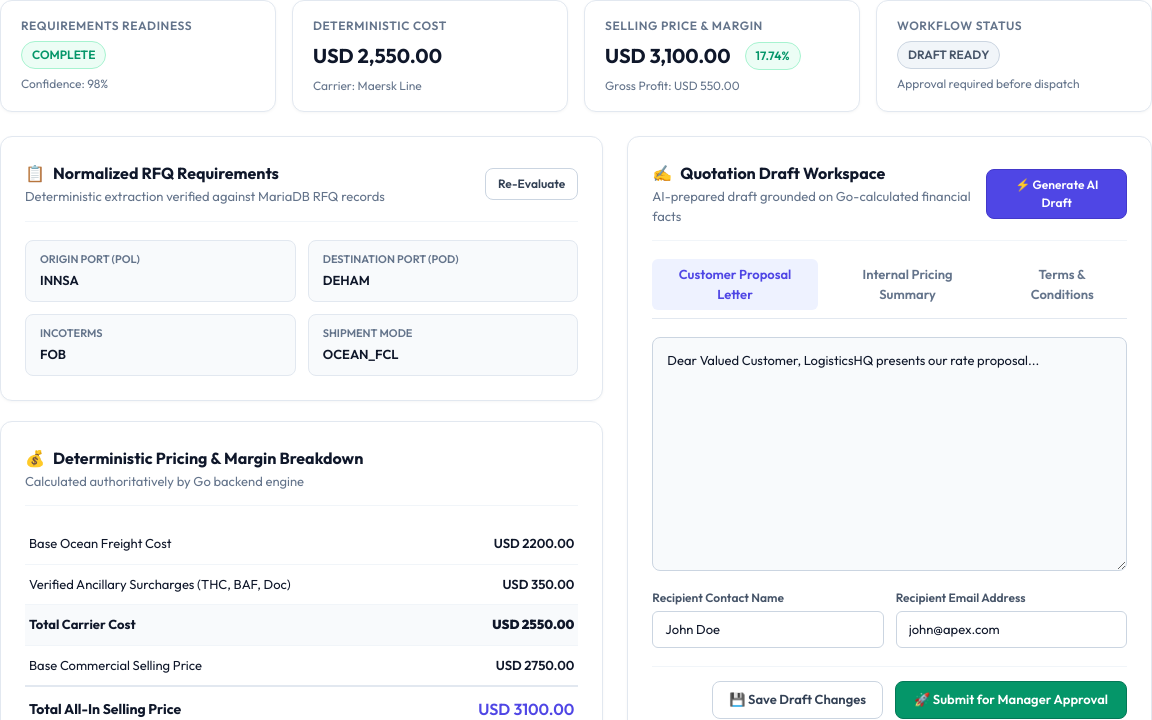
Test: RFQIntelligentPricingWorkflowSection Component › allows switching between draft workspace tabs
The width and height of the screenshot is (1152, 720).
Expected: the text box with test id "customer-wording-input" is shown, top-left (652, 337), bottom-right (1127, 571)
Note: Switch to Internal Summary tab
Click the button "Internal Pricing Summary": (908, 284) top-left (826, 259), bottom-right (989, 310)
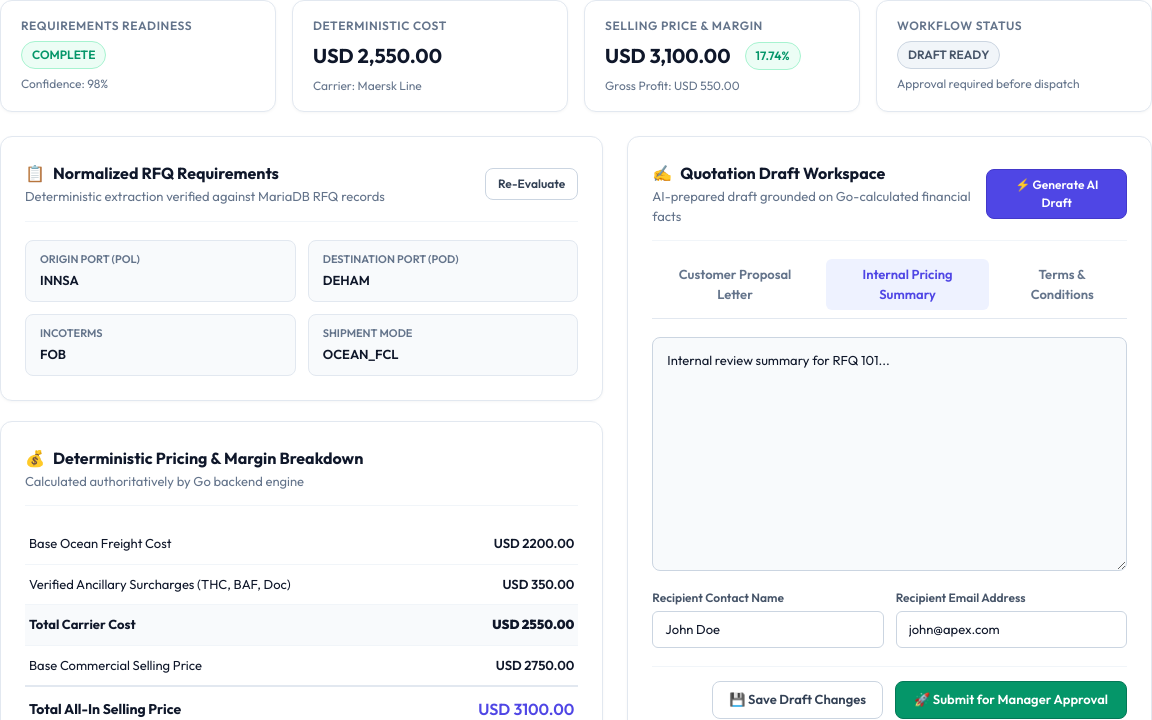
Expected: the text box with test id "internal-summary-input" is shown, top-left (652, 337), bottom-right (1127, 571)
Note: Switch to Terms tab
Click the button "Terms & Conditions": (1062, 284) top-left (998, 259), bottom-right (1127, 310)
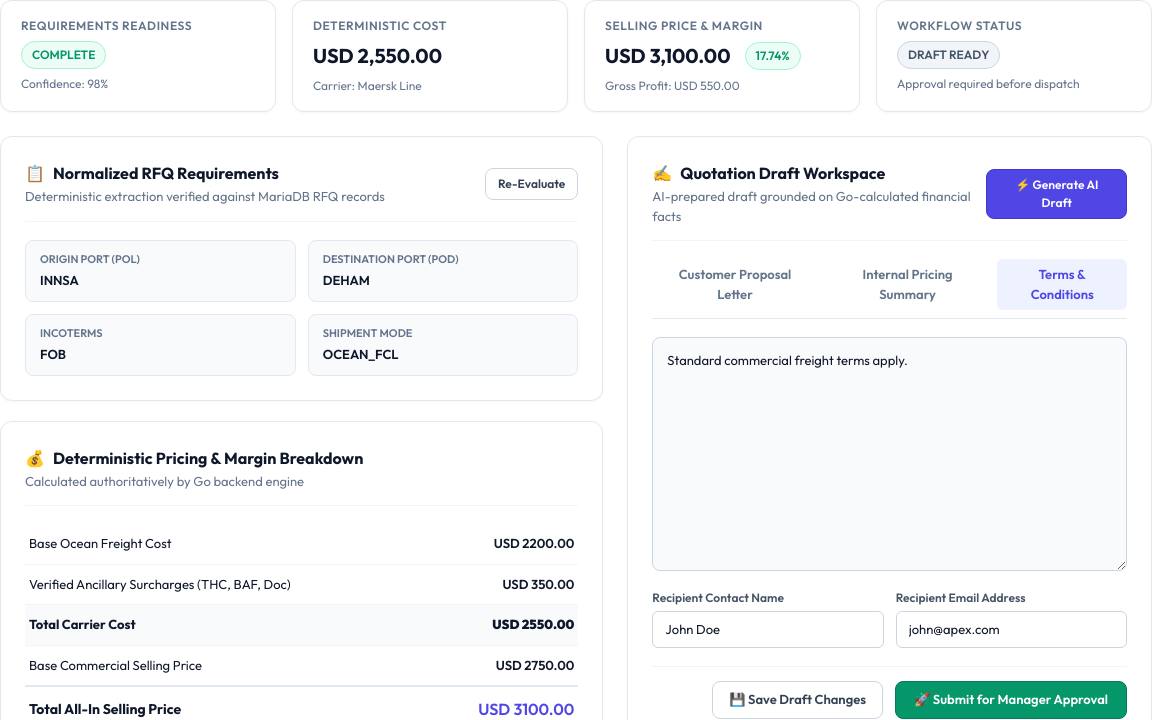
Expected: the text box with test id "terms-conditions-input" is shown, top-left (652, 337), bottom-right (1127, 571)
